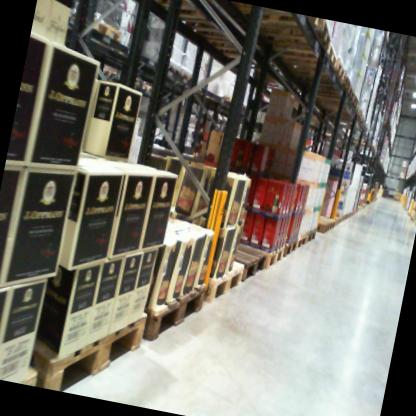pallet: (12, 283, 152, 404), (142, 271, 213, 350), (233, 2, 336, 52), (252, 26, 342, 69), (193, 246, 251, 310), (267, 43, 348, 82), (228, 229, 288, 277), (133, 0, 227, 27), (234, 3, 323, 31), (285, 57, 355, 92), (224, 237, 268, 287), (82, 10, 128, 54), (5, 355, 44, 385), (157, 54, 184, 77), (220, 94, 246, 113), (177, 67, 200, 88), (282, 235, 300, 261), (313, 212, 336, 231), (295, 228, 310, 253), (314, 219, 330, 234), (307, 225, 318, 246)
